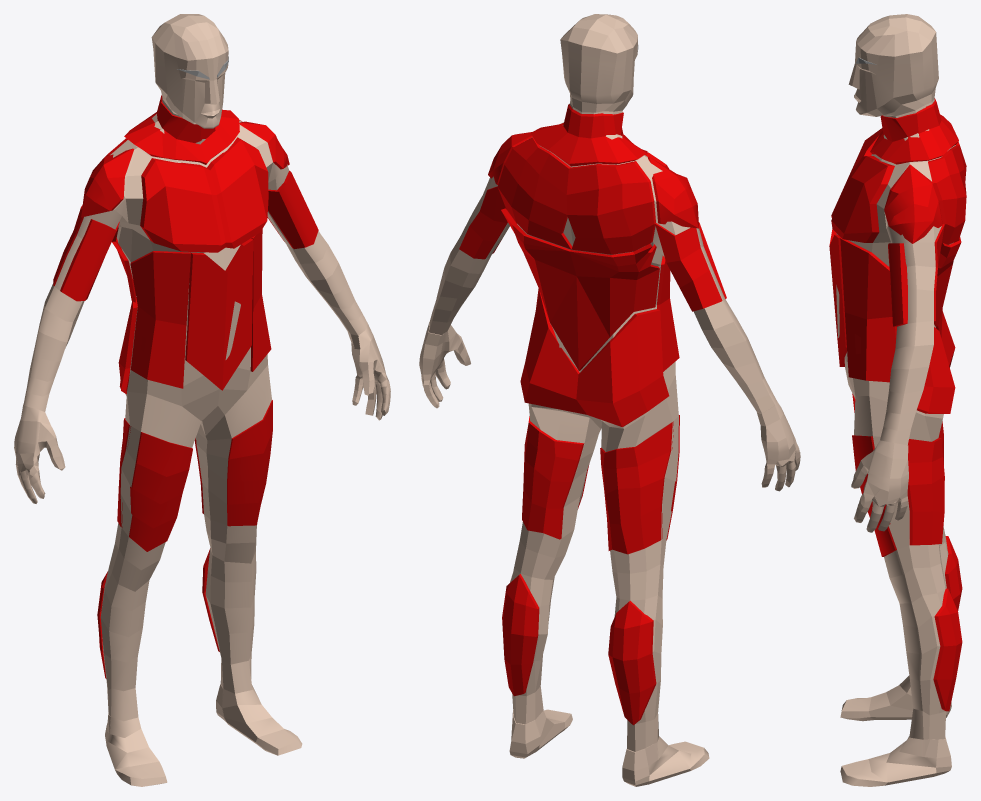
Rendered from Human_Body_v4.fbx.
3 views of the same model, side by side, from view 1: azimuth 30°, elevation 25°; view 2: azimuth 150°, elevation 25°; view 3: azimuth 270°, elevation 25° (orthographic).
Visible parts, largest first — view 1: Fullbody, Pectorals, Quadriceps, Obliques, Abdominus, Head, Biceps, TrapeZius, Deltiods, Gluteals, Feet, Hands (+1 smaller); view 2: Fullbody, Rhomboids, Abductors, Gluteals, Latissimus_Dorsi, Gastrocnemius, Head, Triceps, TrapeZius, Hands, Feet, Deltiods (+1 smaller); view 3: Fullbody, Head, Obliques, Abductors, Pectorals, TrapeZius, Gastrocnemius, Deltiods, Rhomboids, Gluteals, Feet, Hands (+5 smaller).
Boxes of the visible parts, x1,y1,x2,y2 form: Fullbody: (16,98,390,786); Pectorals: (140,137,268,252); Quadriceps: (129,400,272,551); Obliques: (130,229,271,388); Abdominus: (185,238,253,390); Head: (151,14,228,128); Biceps: (60,170,318,301); TrapeZius: (124,95,239,164); Deltiods: (81,121,289,217); Gluteals: (118,297,137,394); Feet: (105,684,296,784); Hands: (14,332,383,497); Fullbody: (421,101,800,767); Rhomboids: (497,137,655,254); Abductors: (522,416,673,554); Gluteals: (520,288,669,426); Latissimus_Dorsi: (501,208,659,370); Gastrocnemius: (502,574,656,725); Head: (560,14,637,112); Triceps: (459,186,722,311); TrapeZius: (531,104,647,166); Hands: (419,321,800,491); Feet: (509,710,708,786); Deltiods: (488,132,698,228); Fullbody: (836,99,955,786); Head: (848,14,938,116); Obliques: (840,238,896,382); Abductors: (907,421,944,545); Pectorals: (831,128,894,242); TrapeZius: (870,98,958,164); Gastrocnemius: (933,536,962,711); Deltiods: (884,164,942,243); Rhomboids: (928,142,966,244); Gluteals: (917,311,955,413); Feet: (849,698,951,786); Hands: (855,443,908,532).
Size of the model in its own units: 0.9478 by 1.82 by 0.3106.
